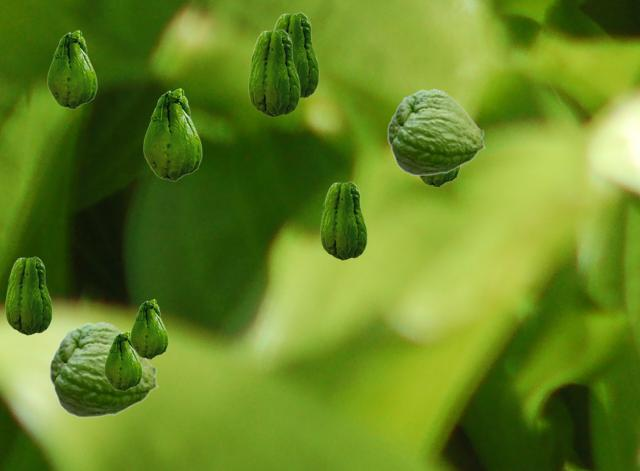sayote: (49, 321, 158, 417), (387, 88, 485, 175), (143, 88, 201, 180), (248, 29, 299, 116), (273, 12, 318, 98), (47, 30, 96, 108), (5, 256, 51, 334), (320, 181, 366, 259), (104, 331, 141, 390), (130, 299, 167, 358), (418, 168, 459, 186)
